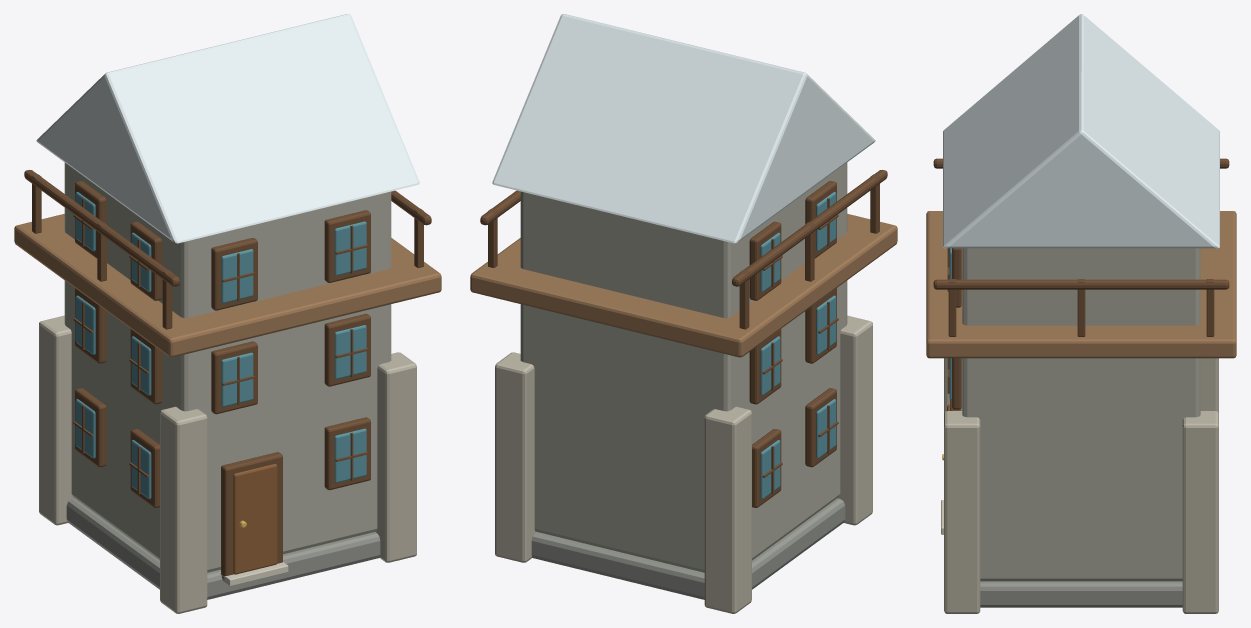
Rendered from snowy-tower-1.glb.
3 views of the same model, side by side, from view 1: azimuth 30°, elevation 25°; view 2: azimuth 150°, elevation 25°; view 3: azimuth 270°, elevation 25° (orthographic).
Parts seen in each view (by area): view 1: Snow, Fieldstone, Warm civic stone, Dark beams, Aged oak, Blue glass, Foundation stone, Door oak, Cut limestone; view 2: Fieldstone, Snow, Warm civic stone, Aged oak, Dark beams, Foundation stone, Blue glass; view 3: Fieldstone, Snow, Warm civic stone, Aged oak, Dark beams, Foundation stone.
Boxes of the visible parts, left/top/right/bottom form: Snow: left=36, top=14, right=419, bottom=243; Fieldstone: left=64, top=162, right=391, bottom=572; Warm civic stone: left=39, top=315, right=416, bottom=613; Dark beams: left=24, top=170, right=431, bottom=579; Aged oak: left=14, top=214, right=441, bottom=357; Blue glass: left=75, top=192, right=366, bottom=499; Foundation stone: left=66, top=498, right=380, bottom=599; Door oak: left=233, top=464, right=277, bottom=574; Cut limestone: left=220, top=562, right=288, bottom=586; Fieldstone: left=520, top=162, right=847, bottom=572; Snow: left=492, top=14, right=875, bottom=243; Warm civic stone: left=495, top=315, right=872, bottom=613; Aged oak: left=470, top=214, right=897, bottom=357; Dark beams: left=480, top=170, right=887, bottom=507; Foundation stone: left=531, top=498, right=845, bottom=599; Blue glass: left=760, top=192, right=836, bottom=499; Fieldstone: left=962, top=248, right=1200, bottom=581; Snow: left=943, top=14, right=1219, bottom=248; Warm civic stone: left=944, top=358, right=1218, bottom=613; Aged oak: left=926, top=211, right=1236, bottom=358; Dark beams: left=933, top=158, right=1229, bottom=410; Foundation stone: left=980, top=581, right=1182, bottom=607.
Size of the model in its own units: 3.25 by 5.61 by 3.25.
